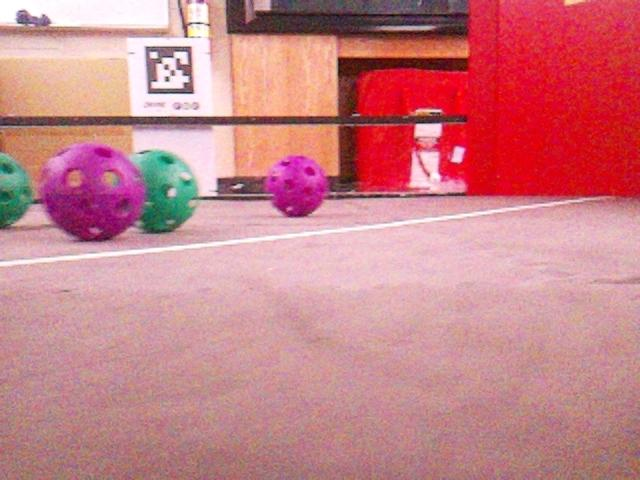Green: (129, 150, 197, 231), (0, 151, 34, 226)
Purple: (39, 142, 146, 239), (264, 154, 327, 216)
